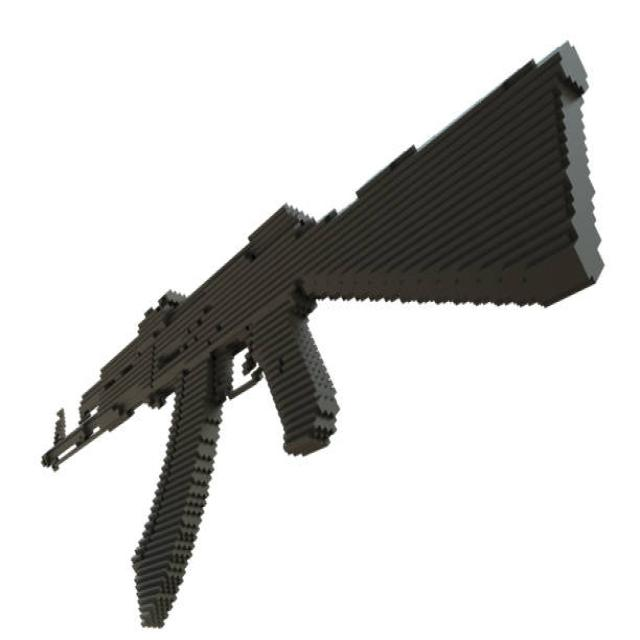rifle: (40, 35, 610, 638)
